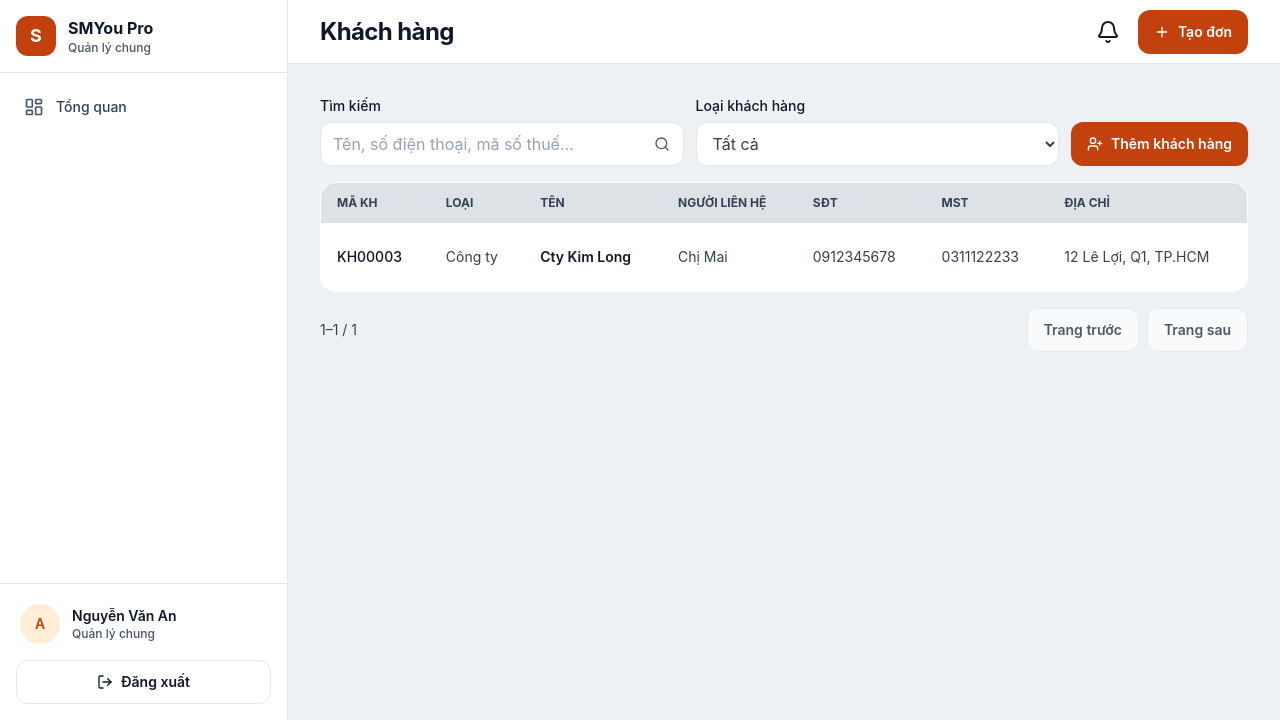
Test: AC-CUS-009 danh sách khách hàng › AC-CUS-014 bấm ô khác trong hàng (không phải tên) → mở sheet sửa
What coordinates should you click on to do the following:
click the text "0912345678"
I would click on:
 (861, 257)
Its box is [797,223,926,292].
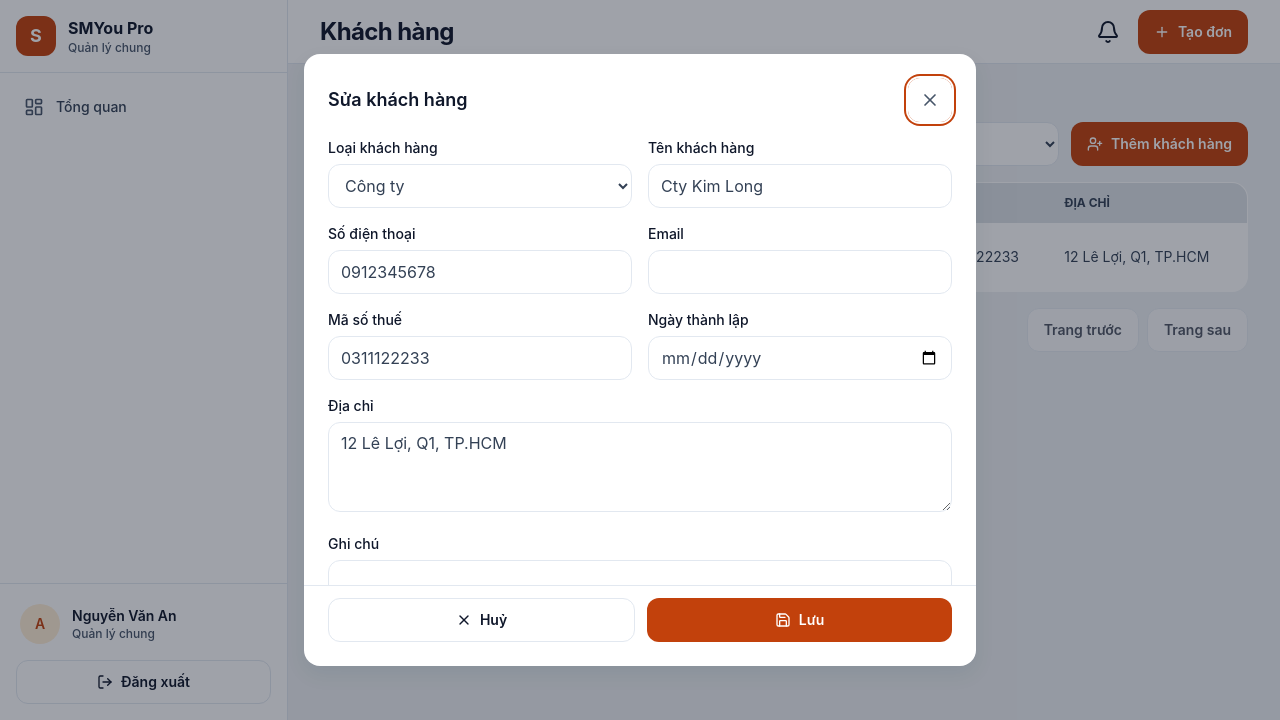
Result: the dialog "Sửa khách hàng" is shown
